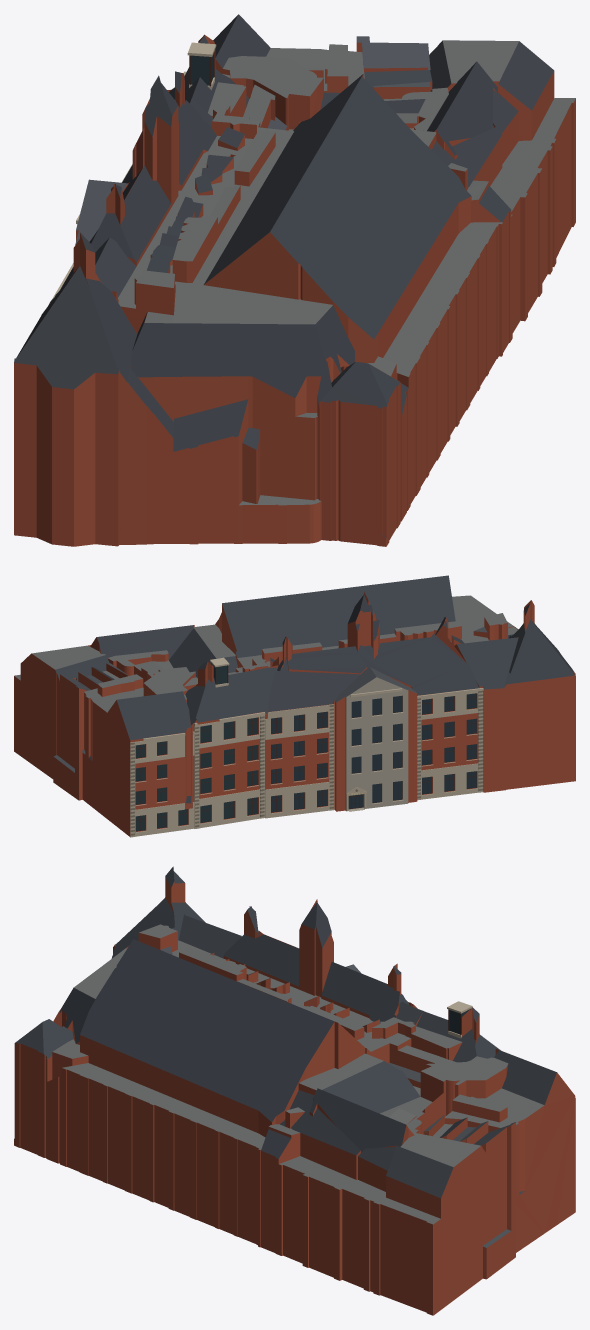
File: recipe-large-beursplein-5-165051.glb
3 views of the same model, one above another, from view 1: azimuth 30°, elevation 25°; view 2: azimuth 150°, elevation 25°; view 3: azimuth 270°, elevation 25° (orthographic). The views are drawn at different scales.
Visible parts, largest first — view 1: beursplein-5-165051; view 2: beursplein-5-165051; view 3: beursplein-5-165051.
Part boxes in pixels (<box>): beursplein-5-165051: <box>14,14,575,546</box>; beursplein-5-165051: <box>14,575,575,837</box>; beursplein-5-165051: <box>14,866,575,1315</box>.
Size of the model in its own units: 93.69 by 39.29 by 83.6.
